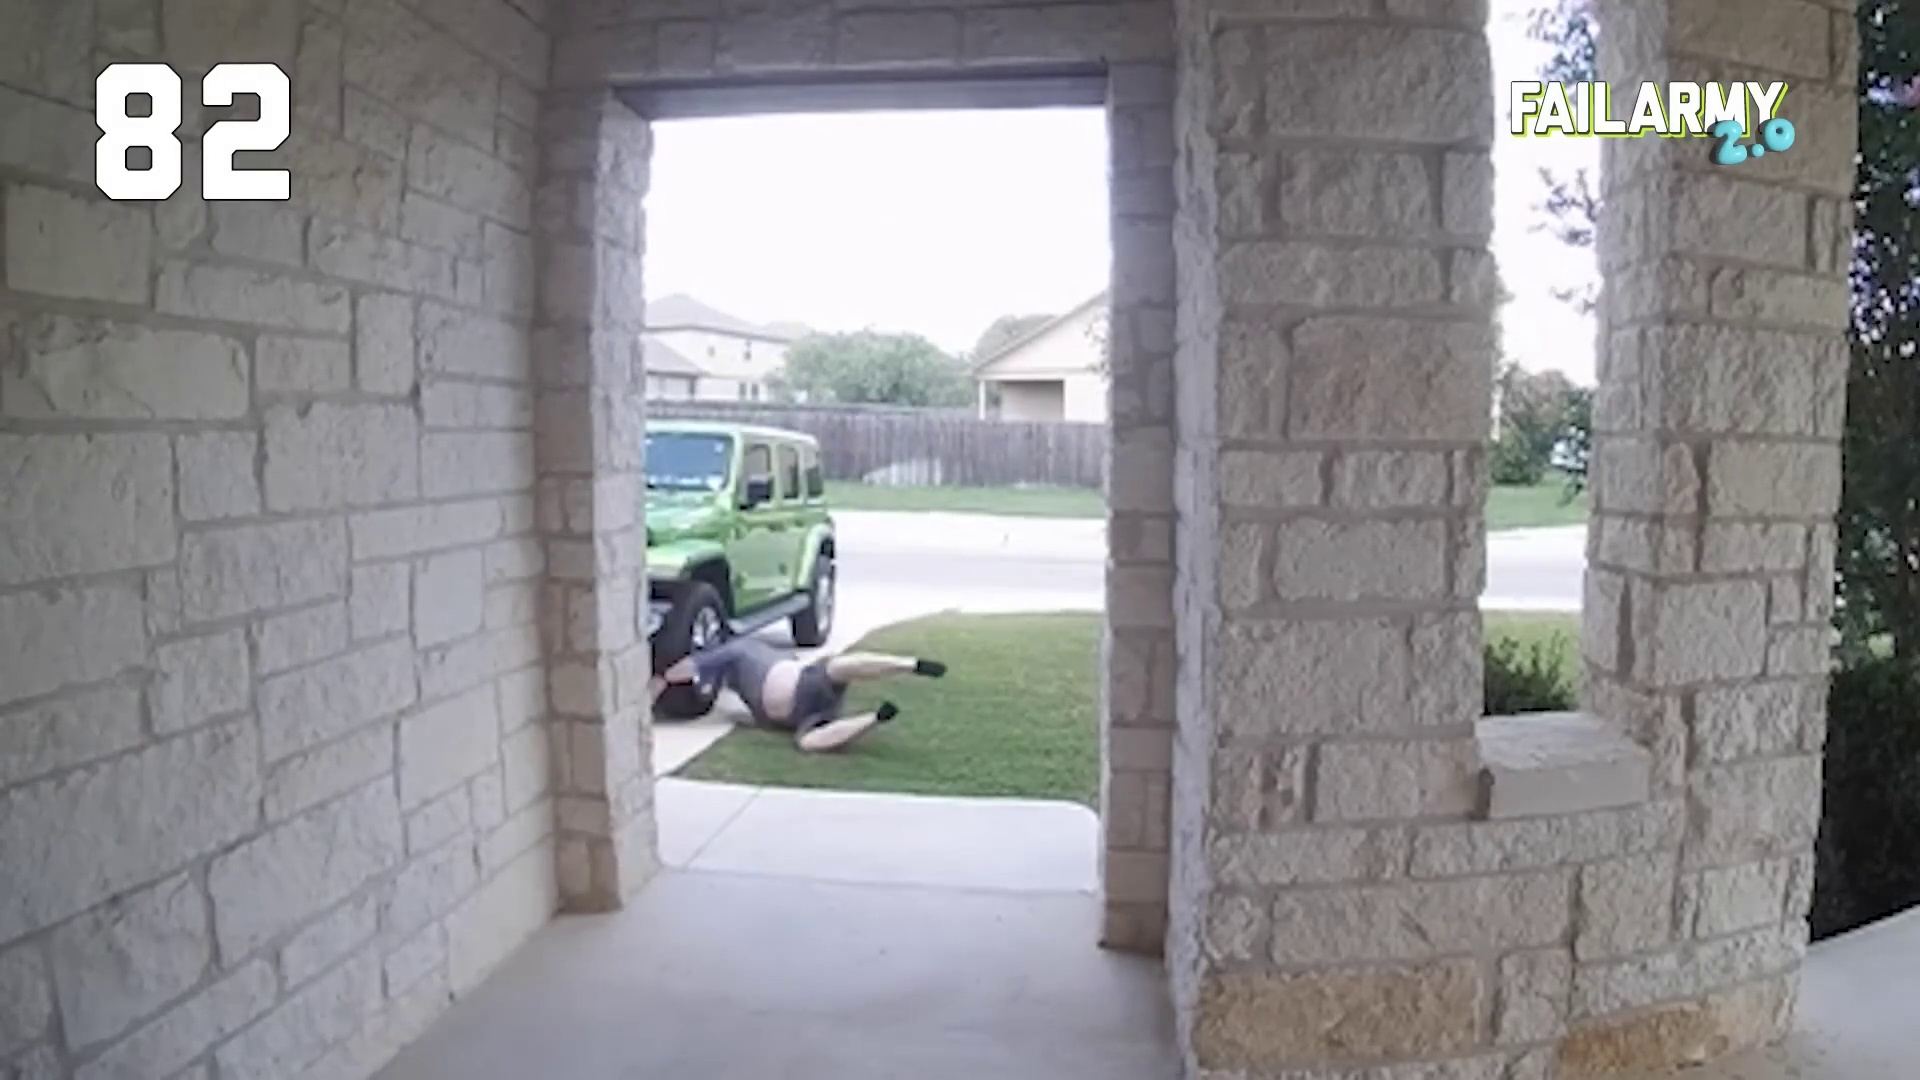fall: (618, 593, 1015, 862)
